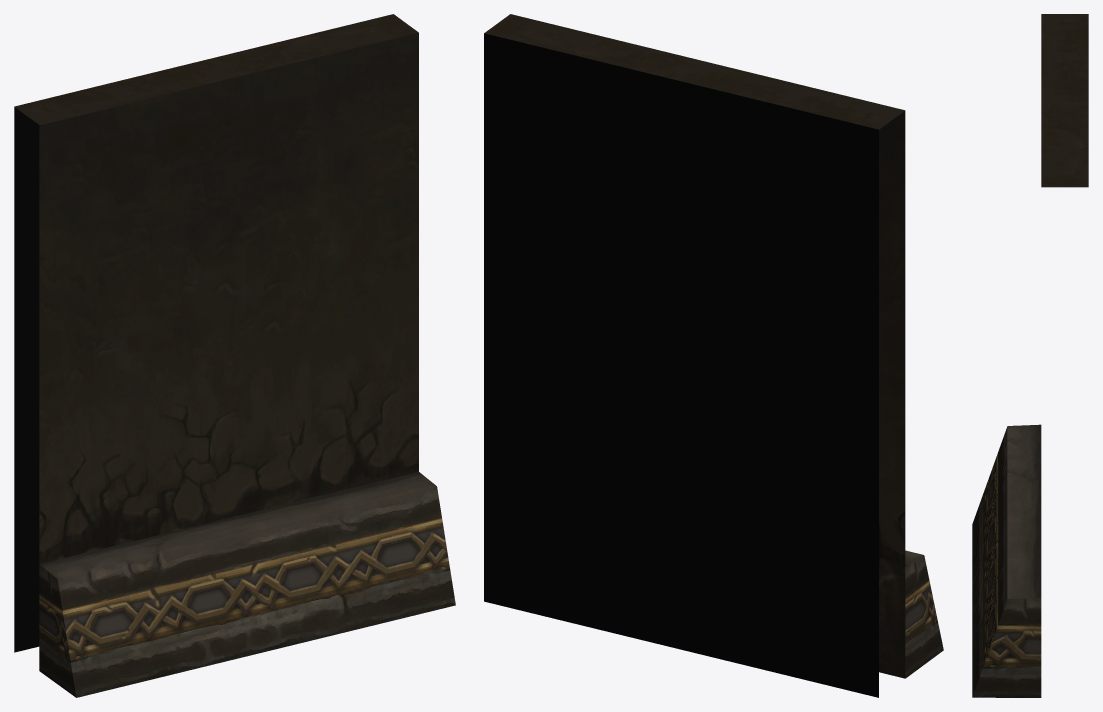
The model's file is fortress_wall_straight_06.fbx.
3 renders of one model, left to right at view 1: azimuth 30°, elevation 25°; view 2: azimuth 150°, elevation 25°; view 3: azimuth 270°, elevation 25°, orthographic. The views are drawn at different scales.
Visible parts, largest first — view 1: fortress_wall_straight_06-0; view 2: fortress_wall_straight_06-0; view 3: fortress_wall_straight_06-0.
Part boxes in pixels (x1,y1,x2,y2): fortress_wall_straight_06-0: [14, 14, 455, 697]; fortress_wall_straight_06-0: [484, 14, 943, 697]; fortress_wall_straight_06-0: [972, 14, 1088, 697].
Size of the model in its own units: 4 by 5.5 by 1.14.
